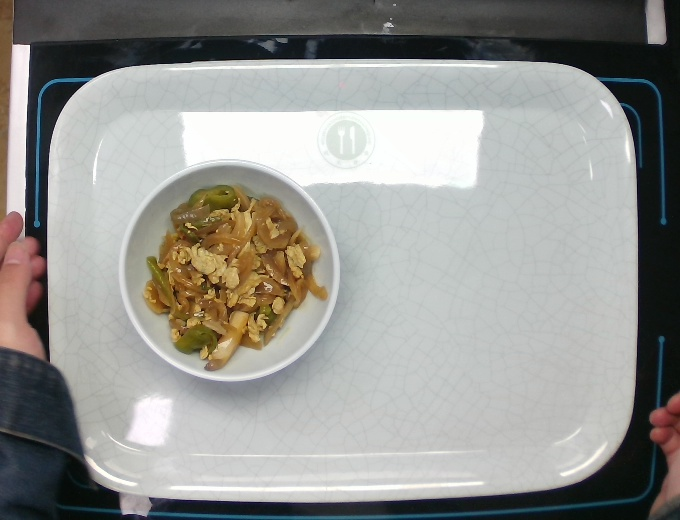JYsf-Fan_Wan: (115, 157, 343, 385)
